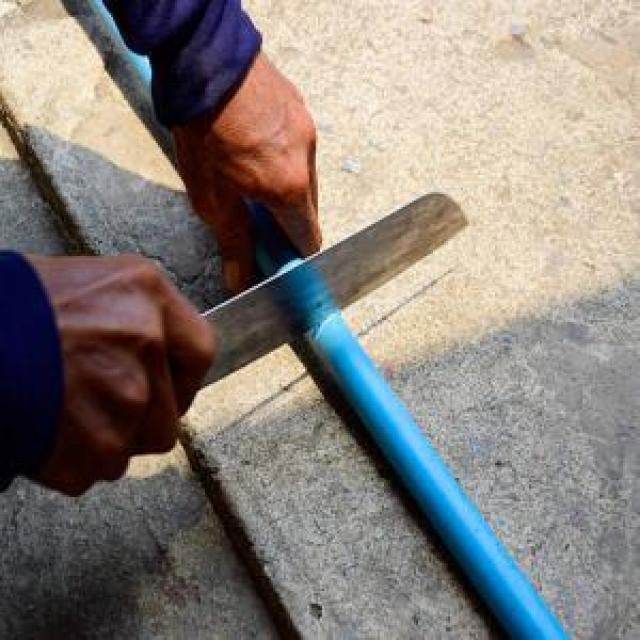knife: (143, 188, 472, 408)
